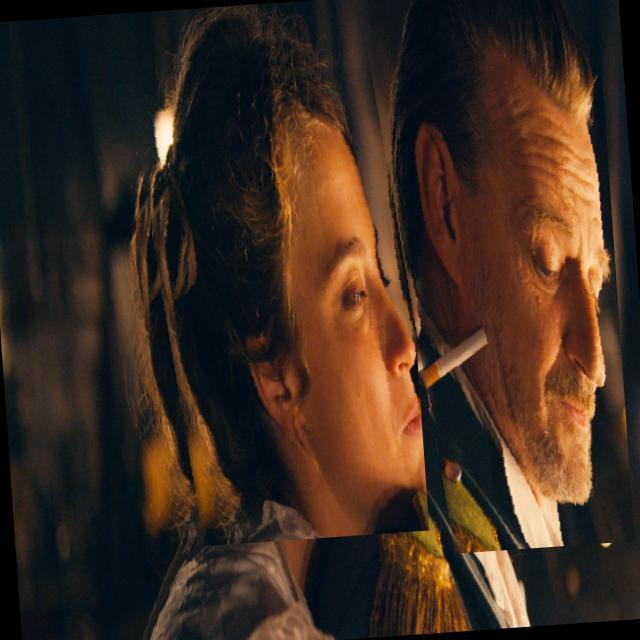cigarette: (362, 314, 462, 412)
